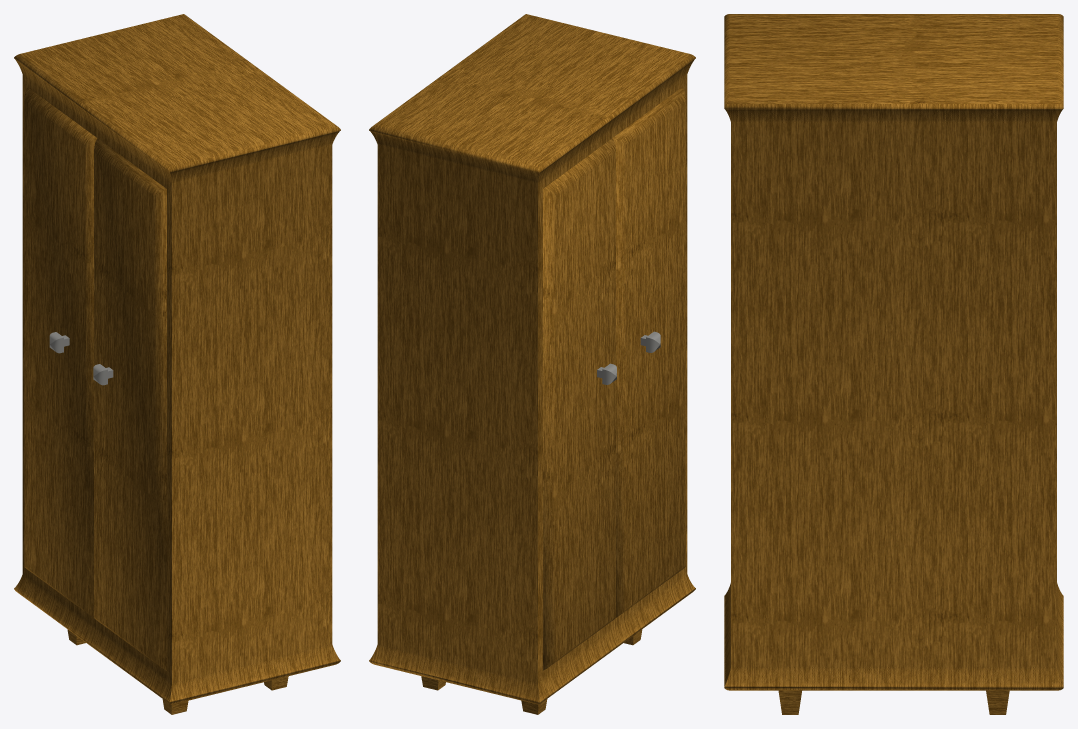
File: Wardrobe.FBX
3 renders of one model, left to right at view 1: azimuth 30°, elevation 25°; view 2: azimuth 150°, elevation 25°; view 3: azimuth 270°, elevation 25°, orthographic. The views are drawn at different scales.
Parts seen in each view (by area): view 1: Box001; view 2: Box001; view 3: Box001.
Boxes of the visible parts, x1,y1,x2,y2 form: Box001: [14, 14, 340, 704]; Box001: [369, 14, 695, 704]; Box001: [724, 14, 1063, 690].
Bounding box in the file's own units: 65.16 × 187 × 91.69.
2 materials, 2 textured.
